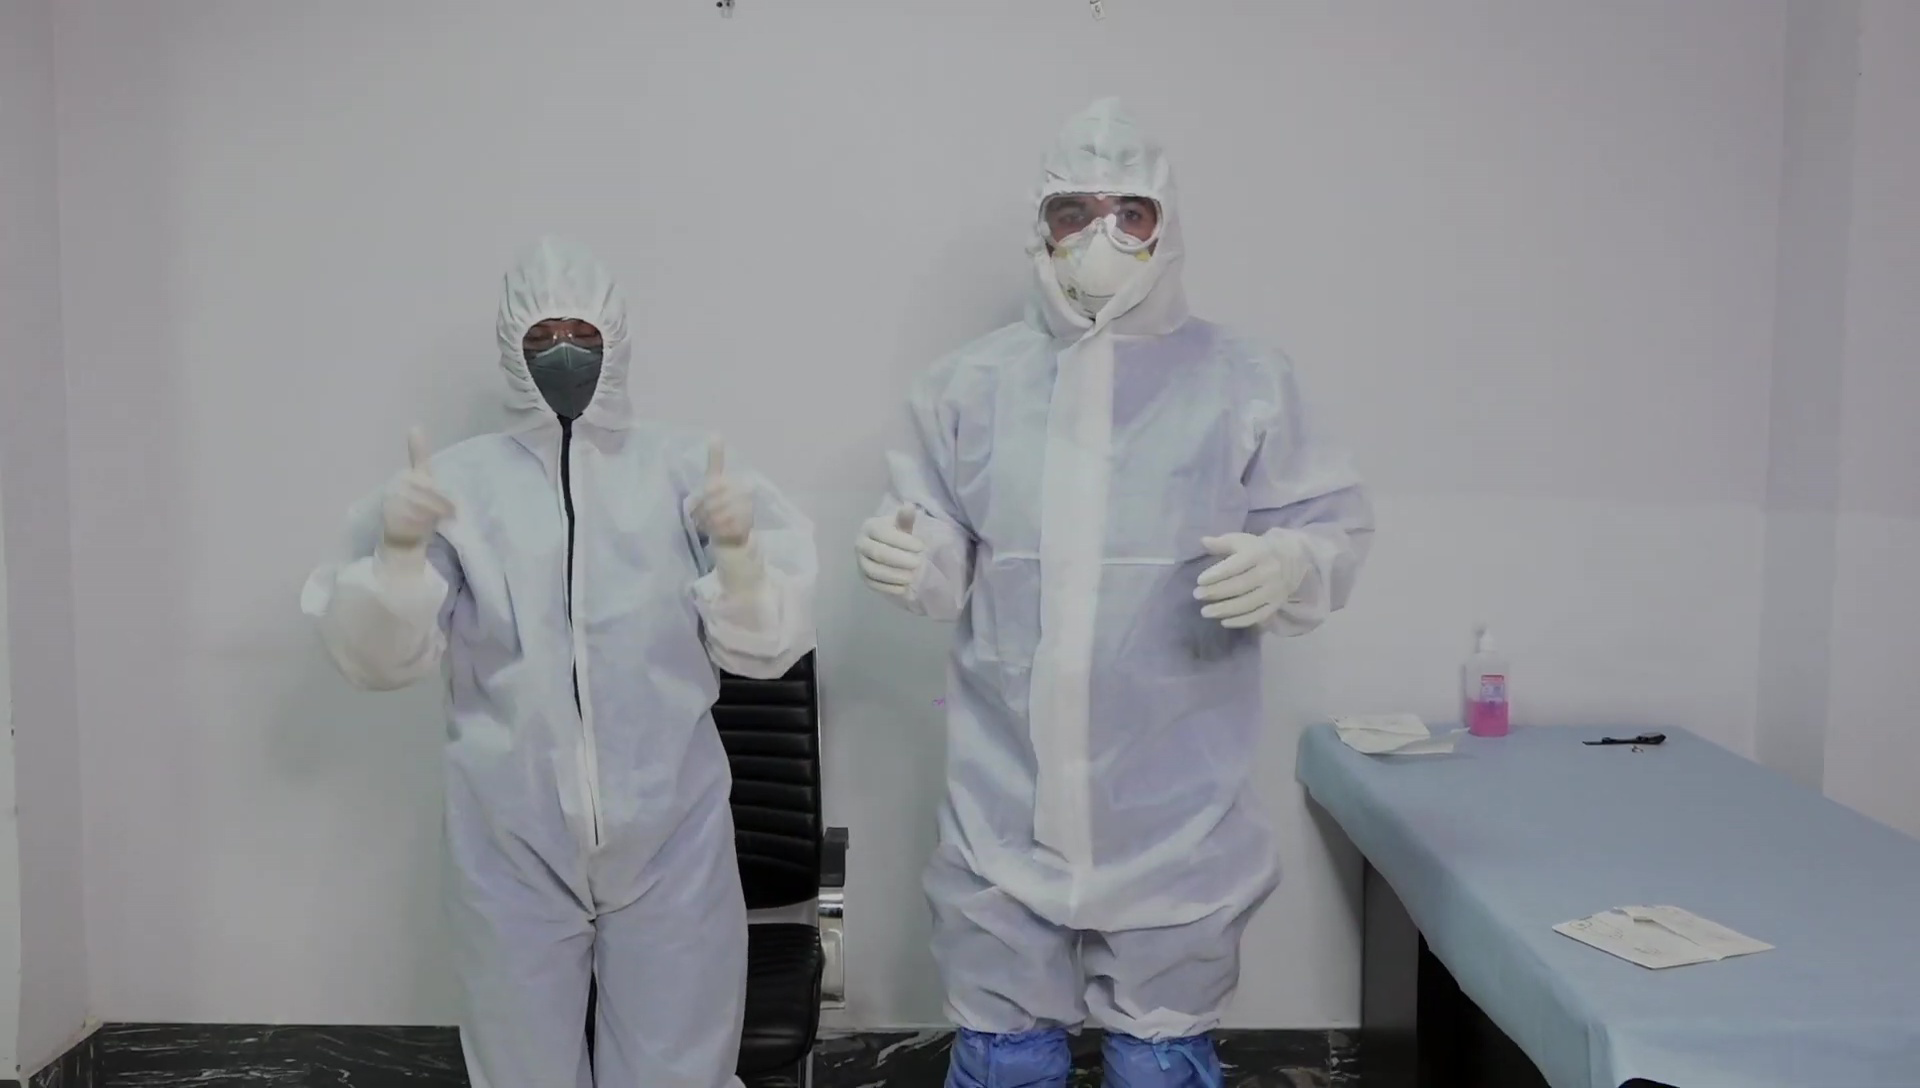Coverall: (878, 94, 1371, 1083), (297, 230, 816, 1083)
Gloves: (1189, 528, 1298, 636), (375, 423, 461, 546), (682, 433, 760, 546), (853, 496, 924, 604)
Goggles: (1032, 186, 1167, 255)
with_mask: (1051, 223, 1153, 321), (532, 346, 602, 421)
